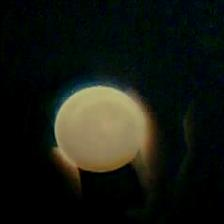infertile: (52, 86, 144, 174)
